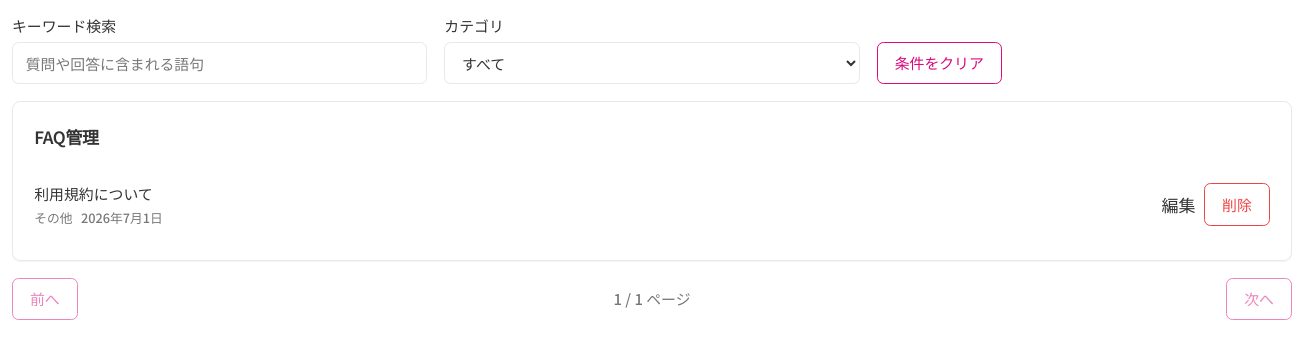
Test case: FaqManagementListClient › 絞り込み結果が0件のとき0件メッセージを表示する
In the field labelled "キーワード検索": [220, 63] box [12, 42, 427, 84], type "存在しないキーワード"
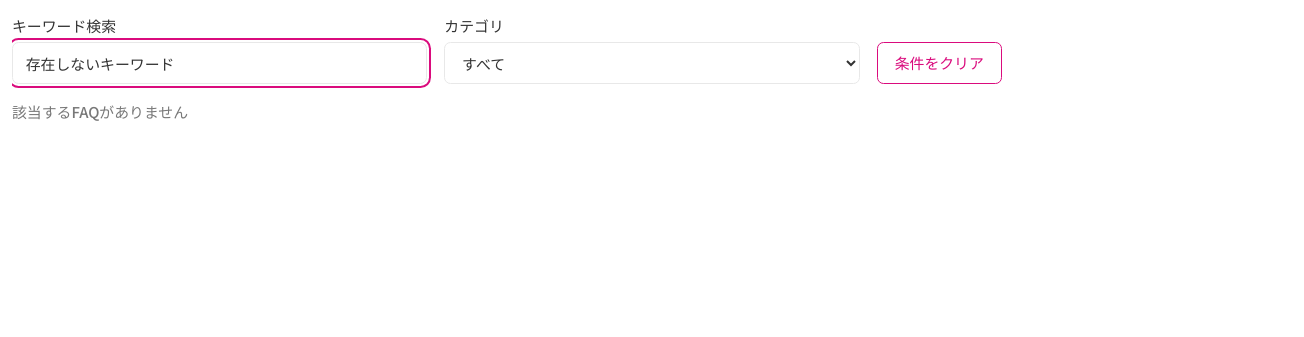
Expected: the text "該当するFAQがありません" is shown, [12, 101, 188, 122]
